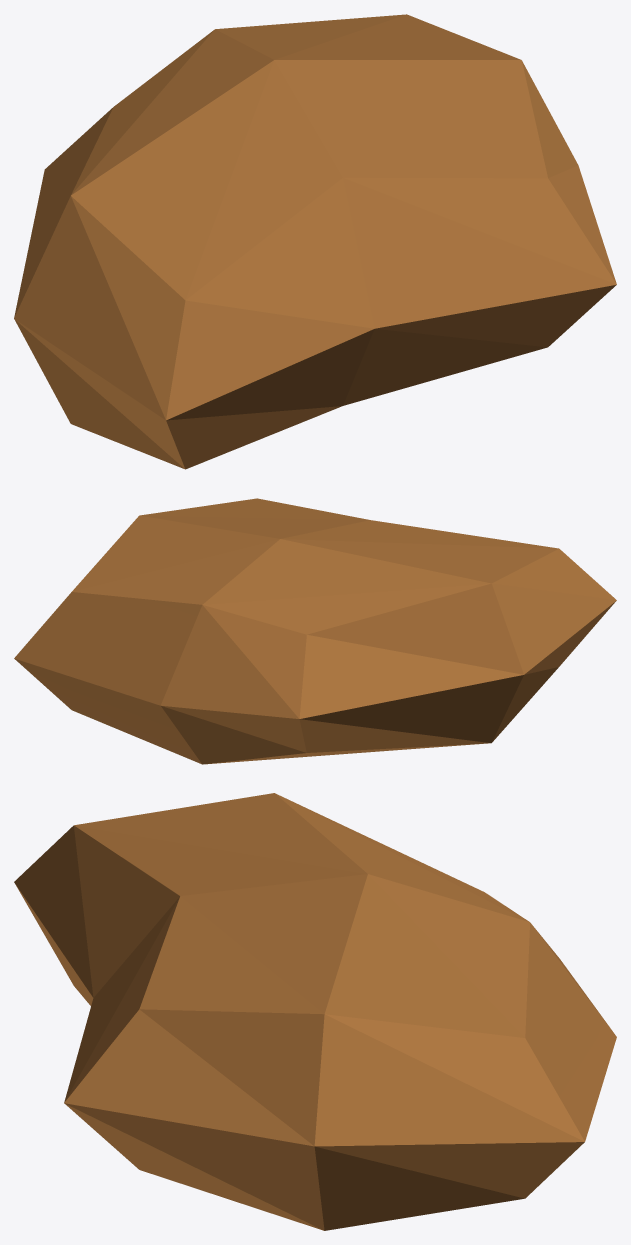
The model's file is 04 Small_Stone.FBX.glb.
3 views of the same model, one above another, from view 1: azimuth 30°, elevation 25°; view 2: azimuth 150°, elevation 25°; view 3: azimuth 270°, elevation 25° (orthographic). The views are drawn at different scales.
Visible parts, largest first — view 1: Stone_lit_024.2; view 2: Stone_lit_024.2; view 3: Stone_lit_024.2.
Boxes of the visible parts, left/top/right/bottom form: Stone_lit_024.2: left=14, top=14, right=616, bottom=469; Stone_lit_024.2: left=14, top=498, right=616, bottom=764; Stone_lit_024.2: left=14, top=793, right=616, bottom=1230.
Size of the model in its own units: 211 by 106 by 200.
